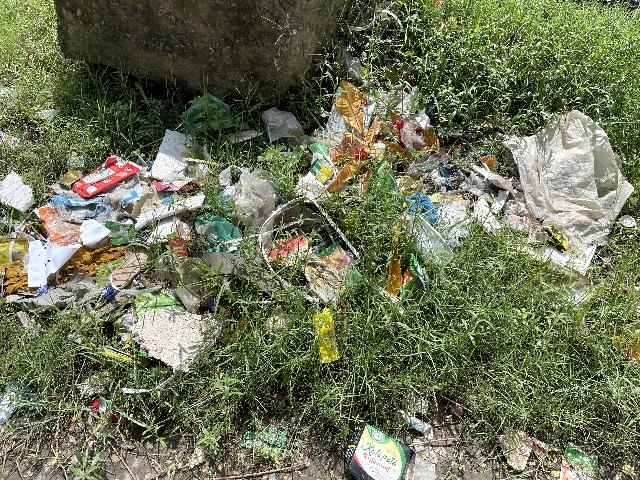polythene: (471, 104, 618, 280), (198, 163, 297, 250)
